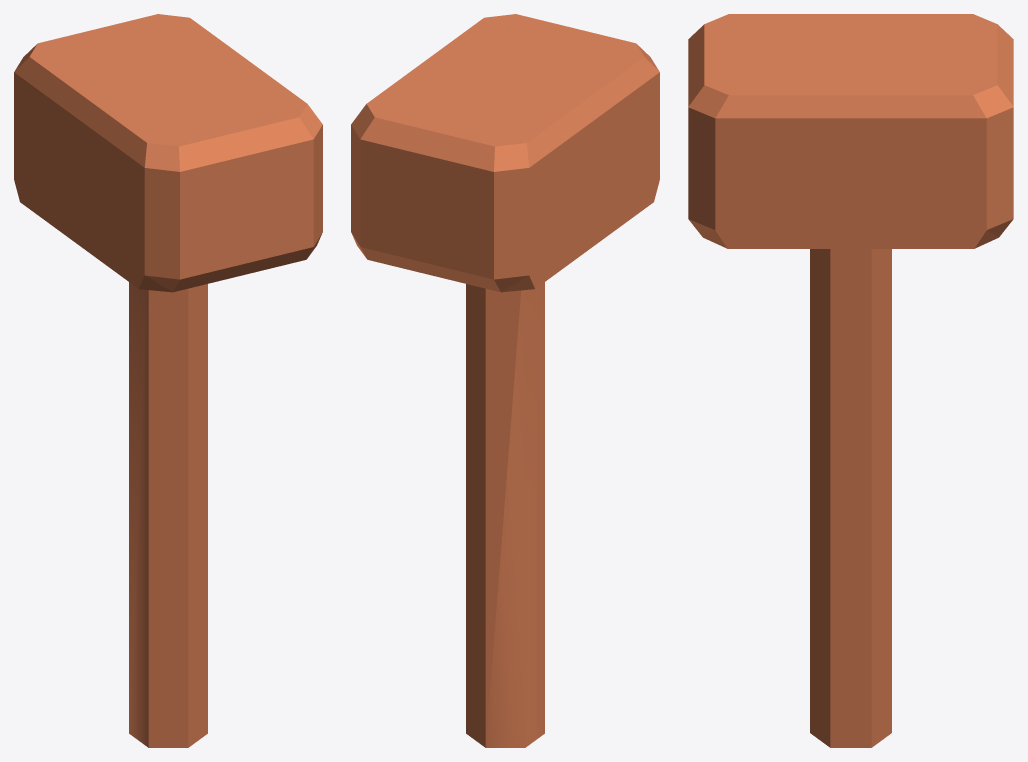
The model's file is Hammer.obj.
3 renders of one model, left to right at view 1: azimuth 30°, elevation 25°; view 2: azimuth 150°, elevation 25°; view 3: azimuth 270°, elevation 25°, orthographic. The views are drawn at different scales.
Visible parts, largest first — view 1: log_stack; view 2: log_stack; view 3: log_stack.
Part boxes in pixels (x1=…): log_stack: x1=14, y1=14, x2=322, y2=747; log_stack: x1=351, y1=14, x2=659, y2=747; log_stack: x1=688, y1=14, x2=1013, y2=747.
Size of the model in its own units: 0.2078 by 0.7281 by 0.3168.
